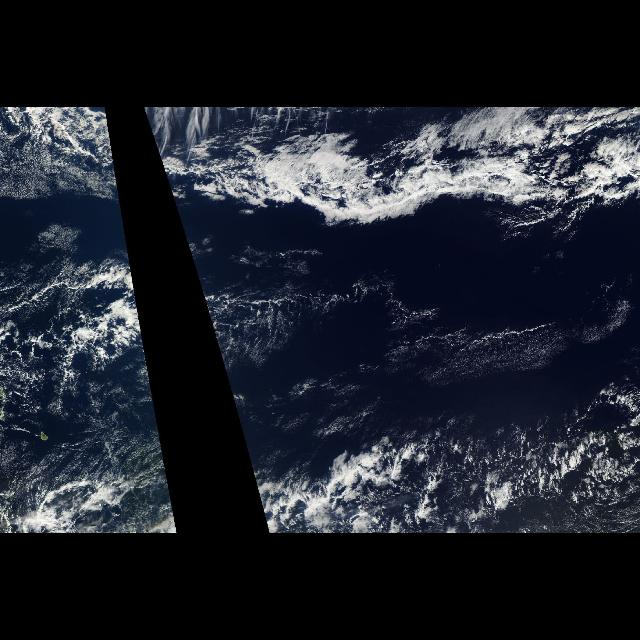Fish: (169, 121, 606, 237)
